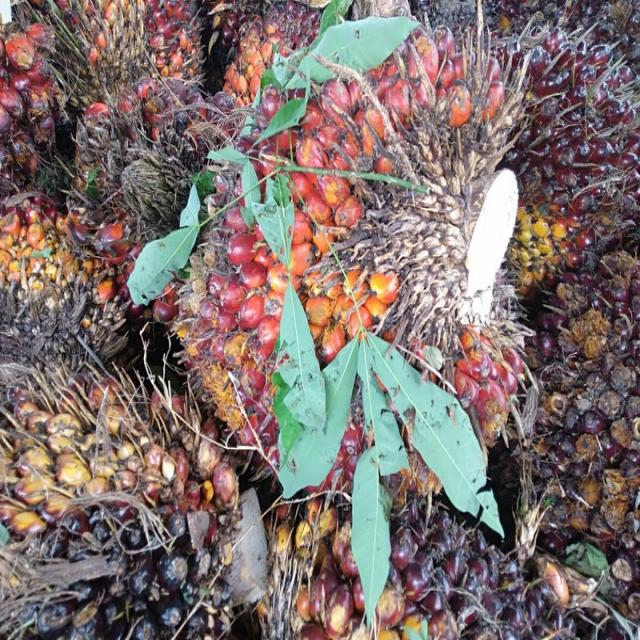fraksi 3: (134, 0, 582, 526)
